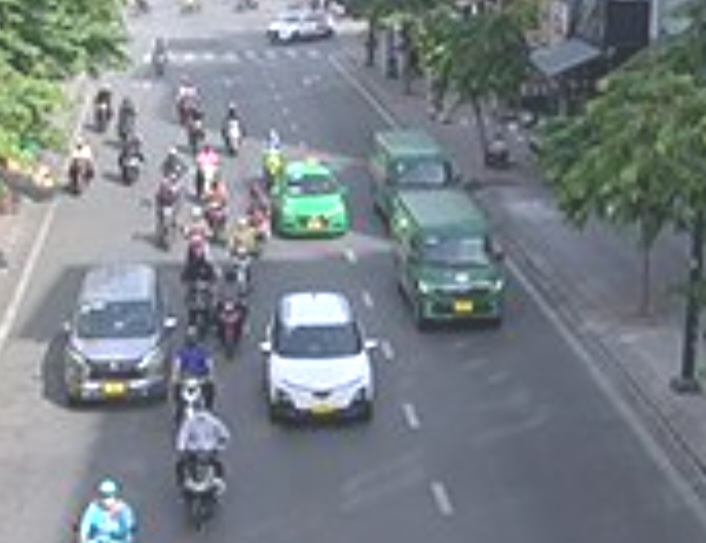car: (60, 262, 170, 405), (389, 202, 509, 331), (260, 295, 378, 423), (268, 163, 350, 238)
